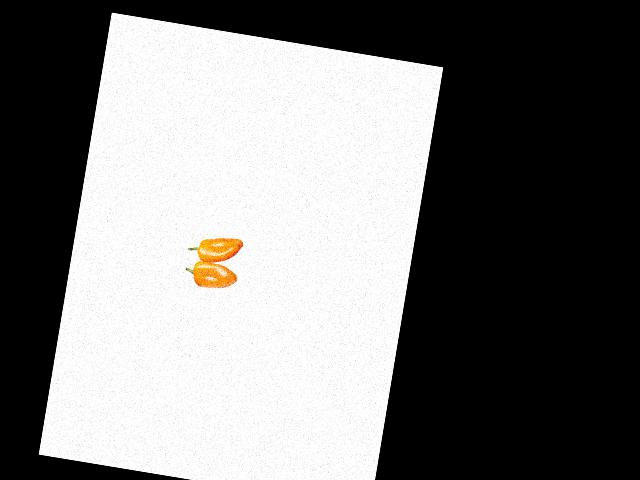bell_pepper: (181, 257, 250, 299)
